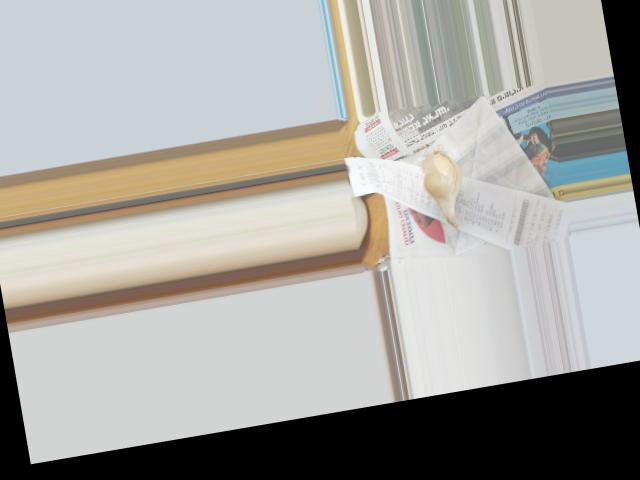onion: (418, 146, 469, 224)
